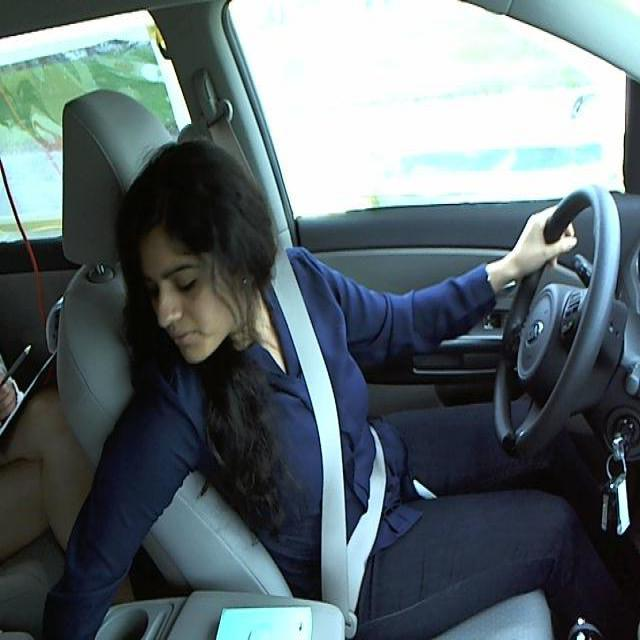seatbelt: (264, 277, 394, 591)
